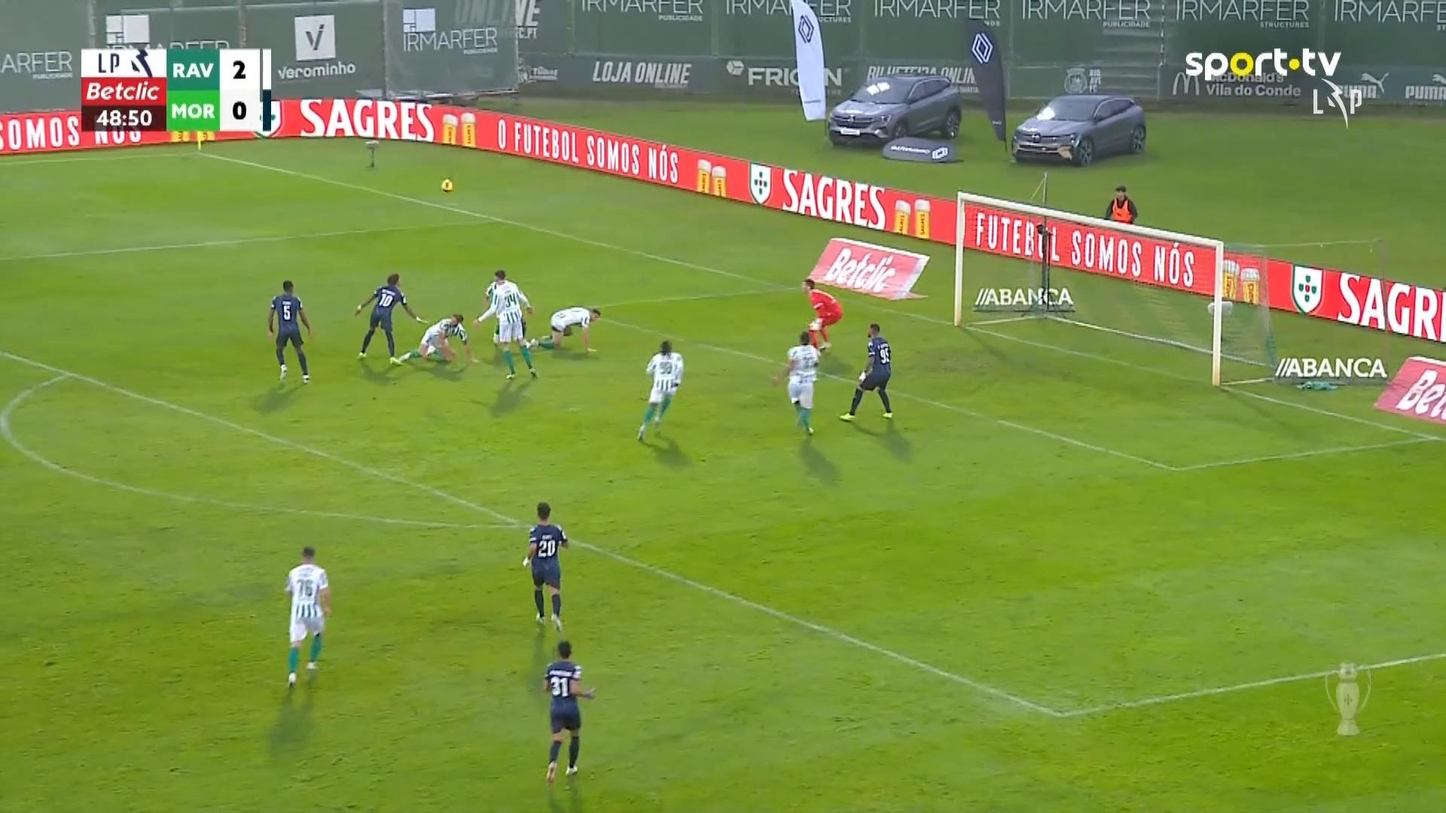ball: (440, 178, 452, 192)
goalkeeper: (801, 277, 843, 353)
player: (541, 640, 596, 783), (473, 269, 538, 379), (283, 546, 332, 688), (353, 272, 424, 363), (520, 501, 569, 632), (838, 322, 893, 421), (770, 330, 821, 436), (636, 339, 683, 443), (390, 312, 477, 367), (267, 279, 312, 383), (524, 306, 601, 353)
